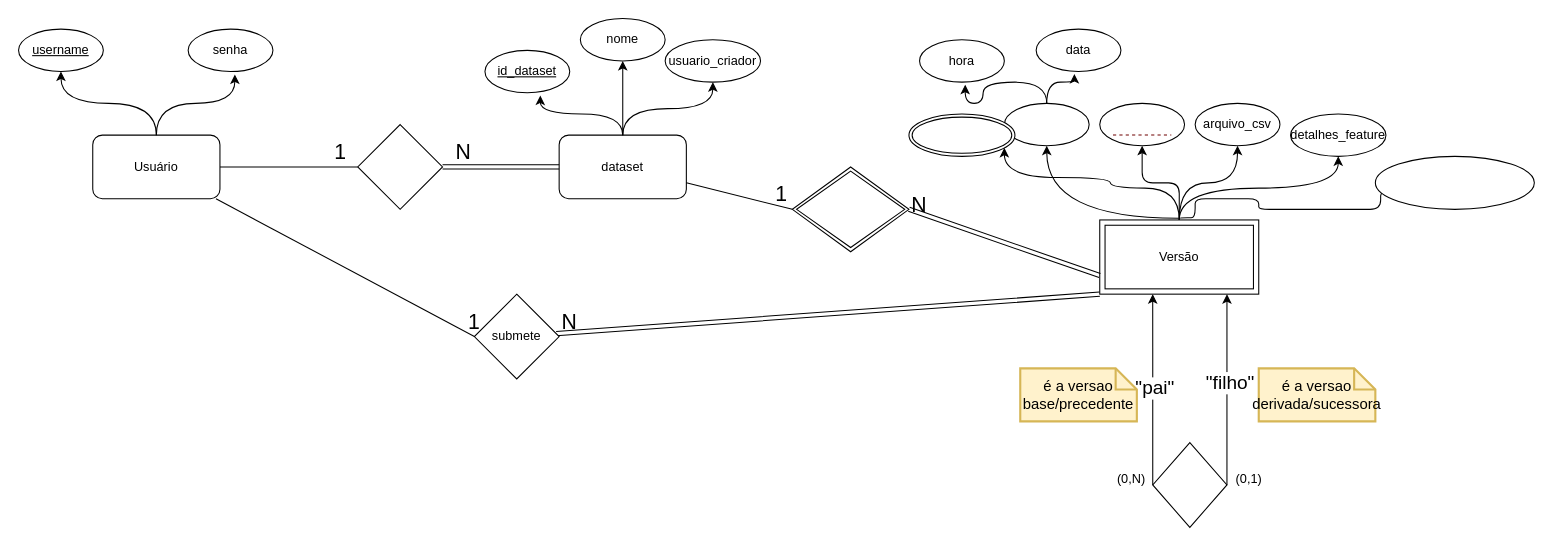
Some shapes in this 1553 by 546 pixel diagram are drawn without their labels. Here are the shapes that lost their labels. From the top down, the centre of each, then its label:
At [961,134]: "fontes_origem".
At [1046,124]: "data_hora".
At [1142,124]: "num_versao".
At [400,166]: "cadastra".
At [1454,182]: "descricao_modifcacoes".
At [850,209]: "tem".
At [1189,484]: "Deriva".
